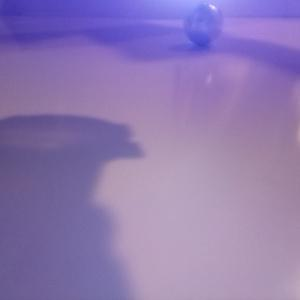alive_ball: (184, 2, 223, 46)
